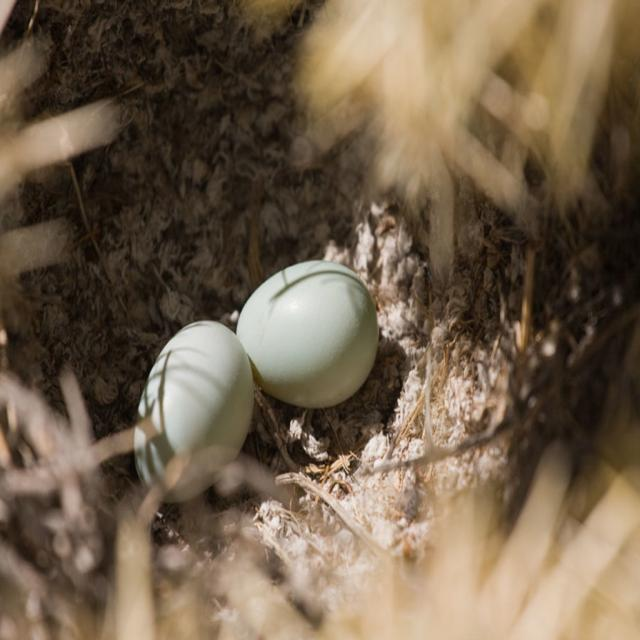Egg: (232, 256, 380, 411), (135, 324, 255, 503)
